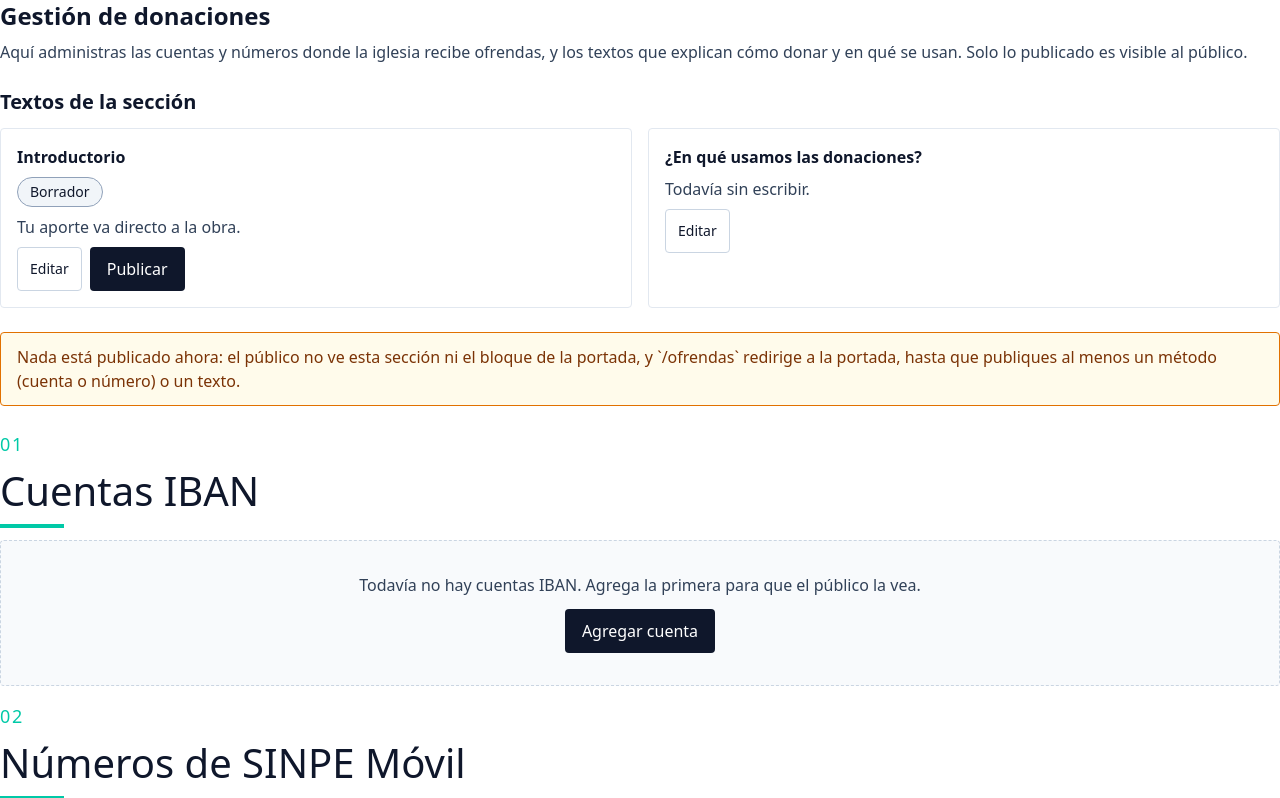
Test: DonacionesPage (ux.md §4.3/§5, US2/US3) › editar un texto abre su formulario y guarda con el aviso de su estado (Q10)
What coordinates should you click on to do the following:
click the button "Editar" below "Tu aporte va directo a la obra."
I would click on:
 (49, 269)
Its box is [17,247,82,291].
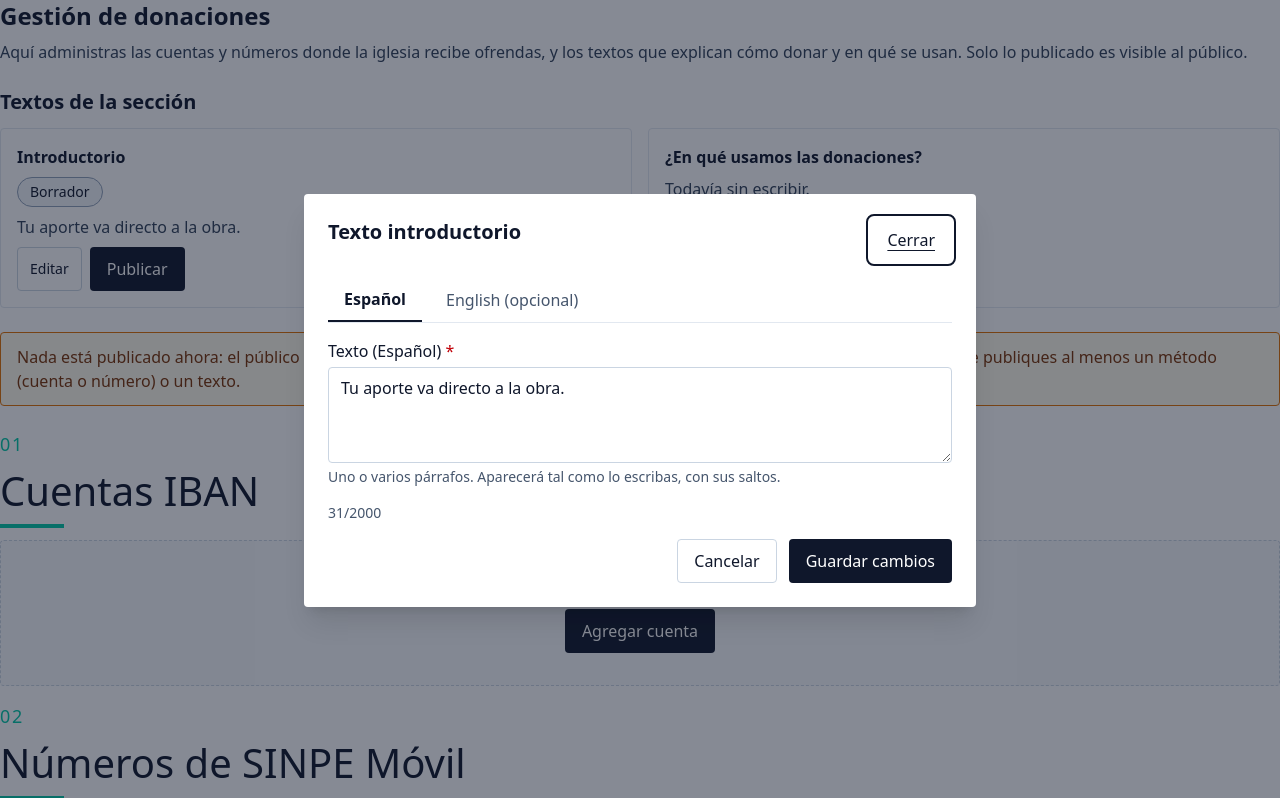
Now the heading reads "Texto introductorio", box [328,218,521,244]
What coordinates should you click on to do the following:
click the button "Guardar cambios"
I would click on:
 (870, 560)
Its box is [789,538,952,582].
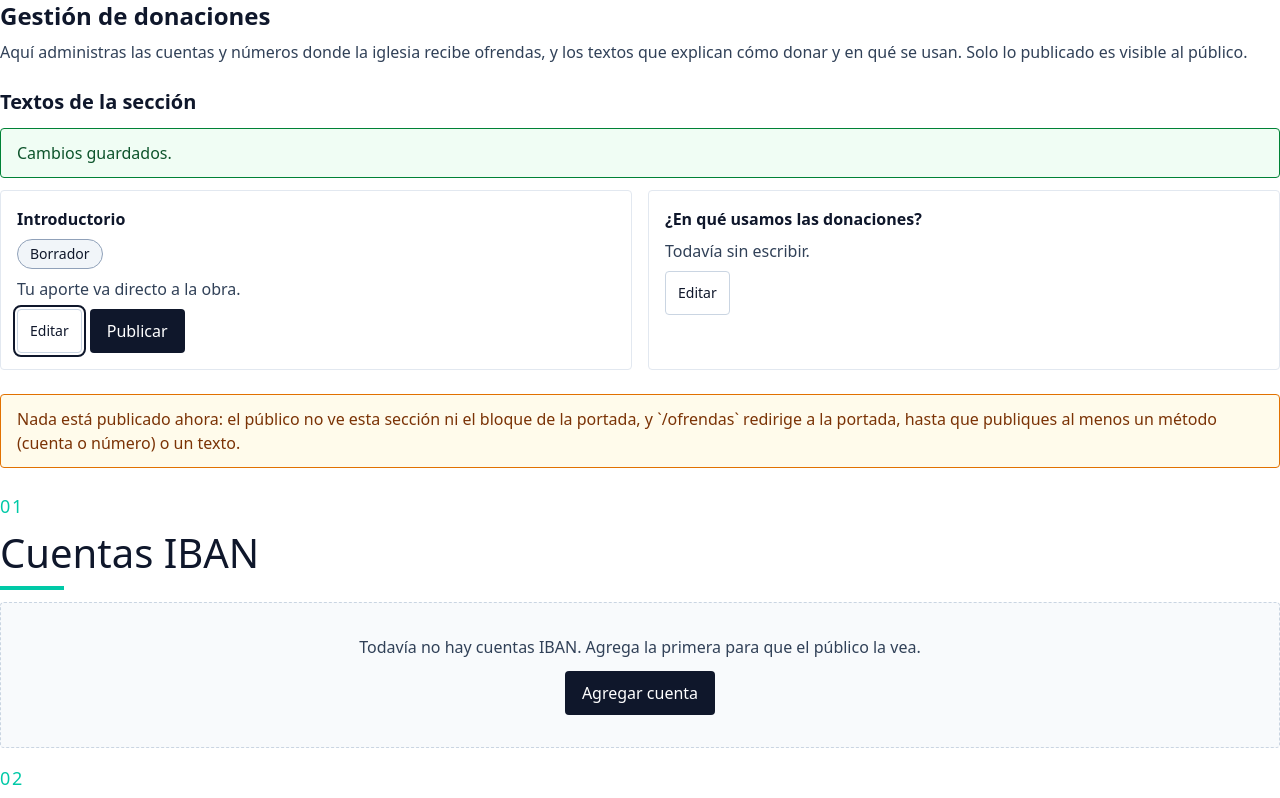
Now the text "Cambios guardados." is shown, box [0,128,1279,178]
